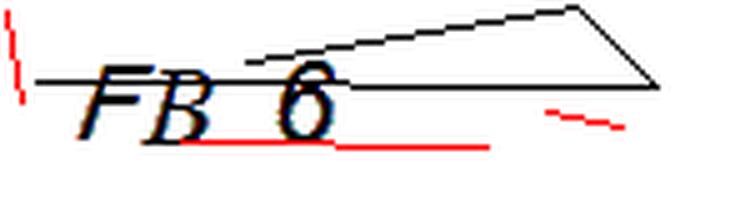6: (267, 54, 348, 150)
B: (137, 62, 223, 153)
F: (70, 55, 157, 145)
